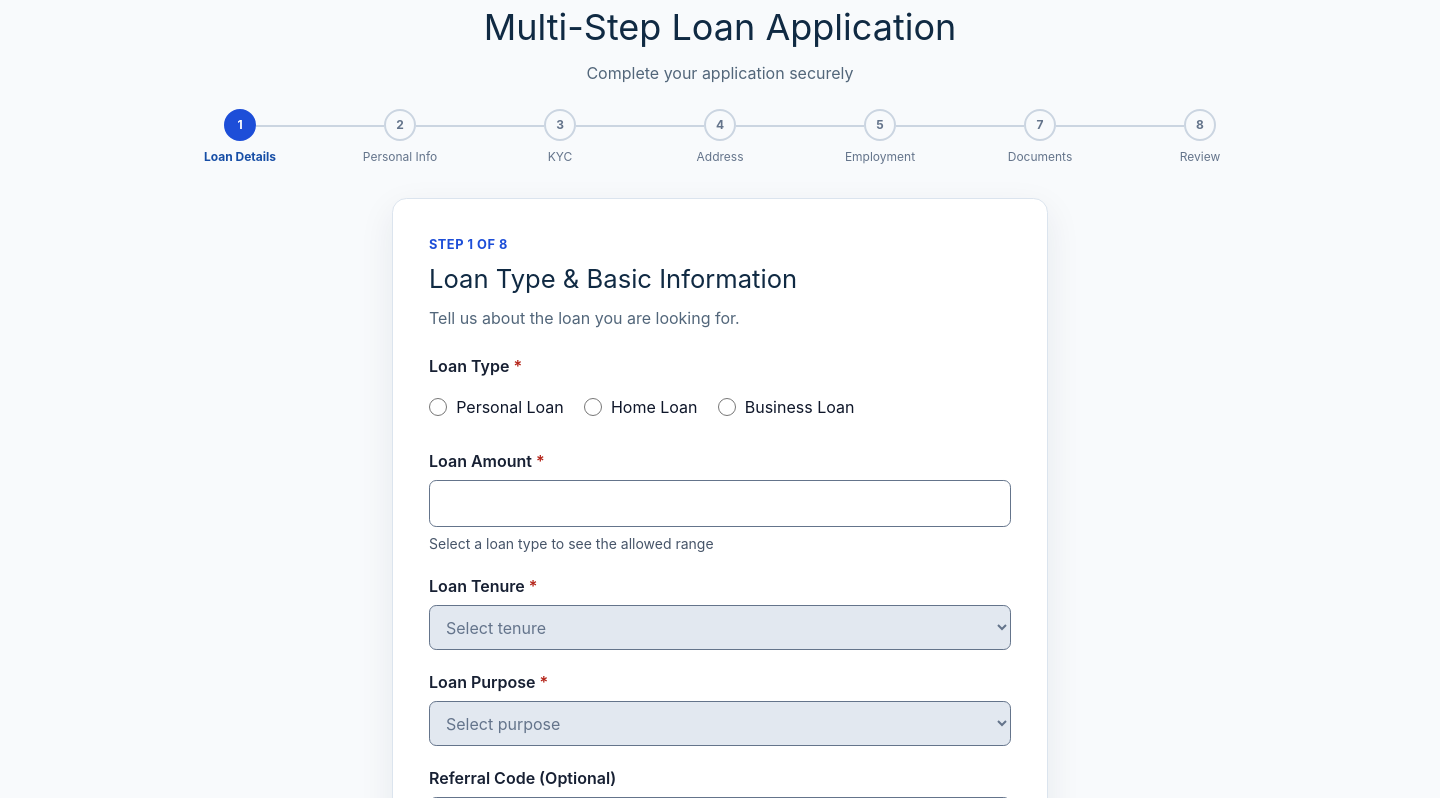
Scenario: Day 3 loan application › rejects an excessive Personal Loan amount
The width and height of the screenshot is (1440, 798).
Click the radio button labelled "Personal Loan": (438, 407) [429,398,447,416]
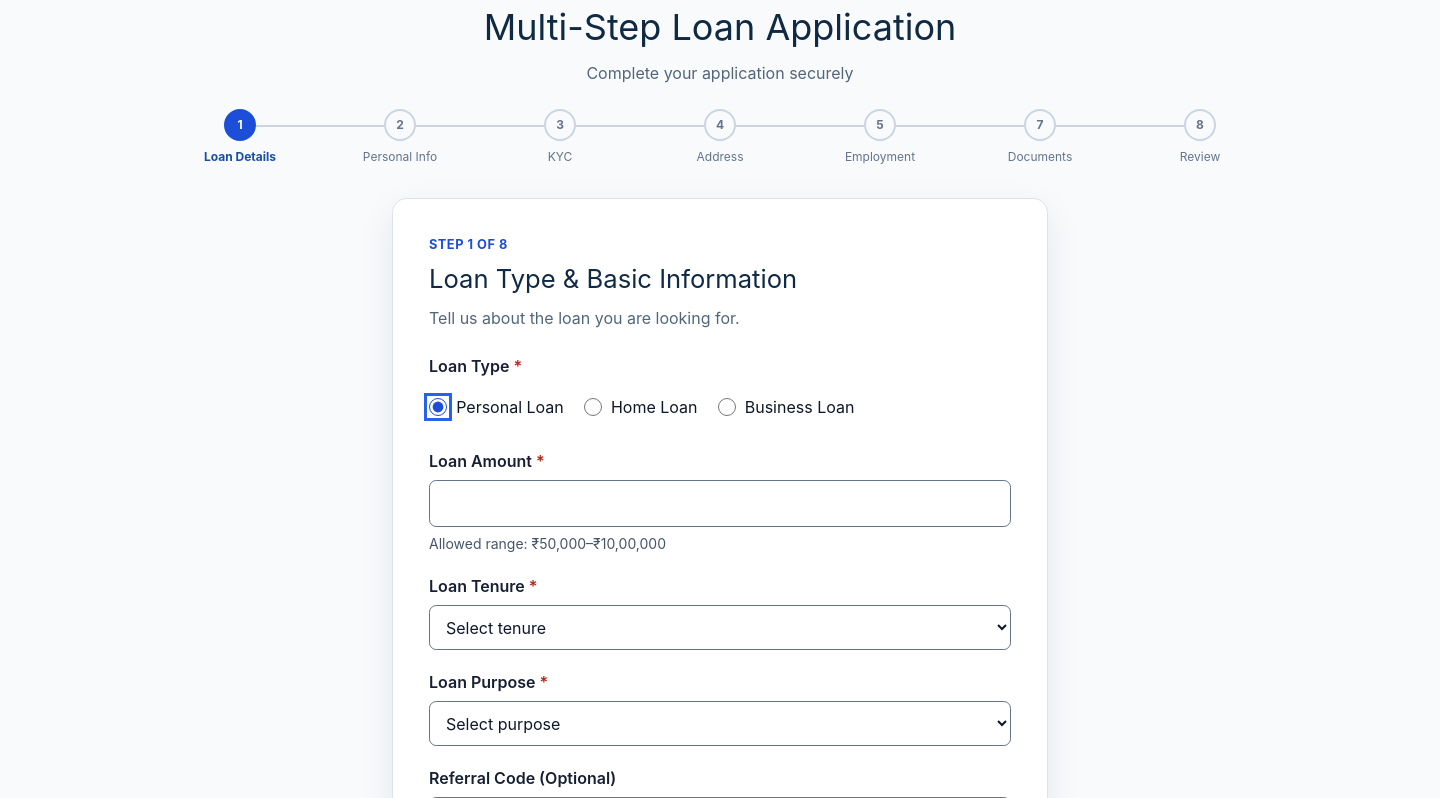
In the field labelled "Loan Amount *": (720, 504) [429,480,1011,527], type "1000001"
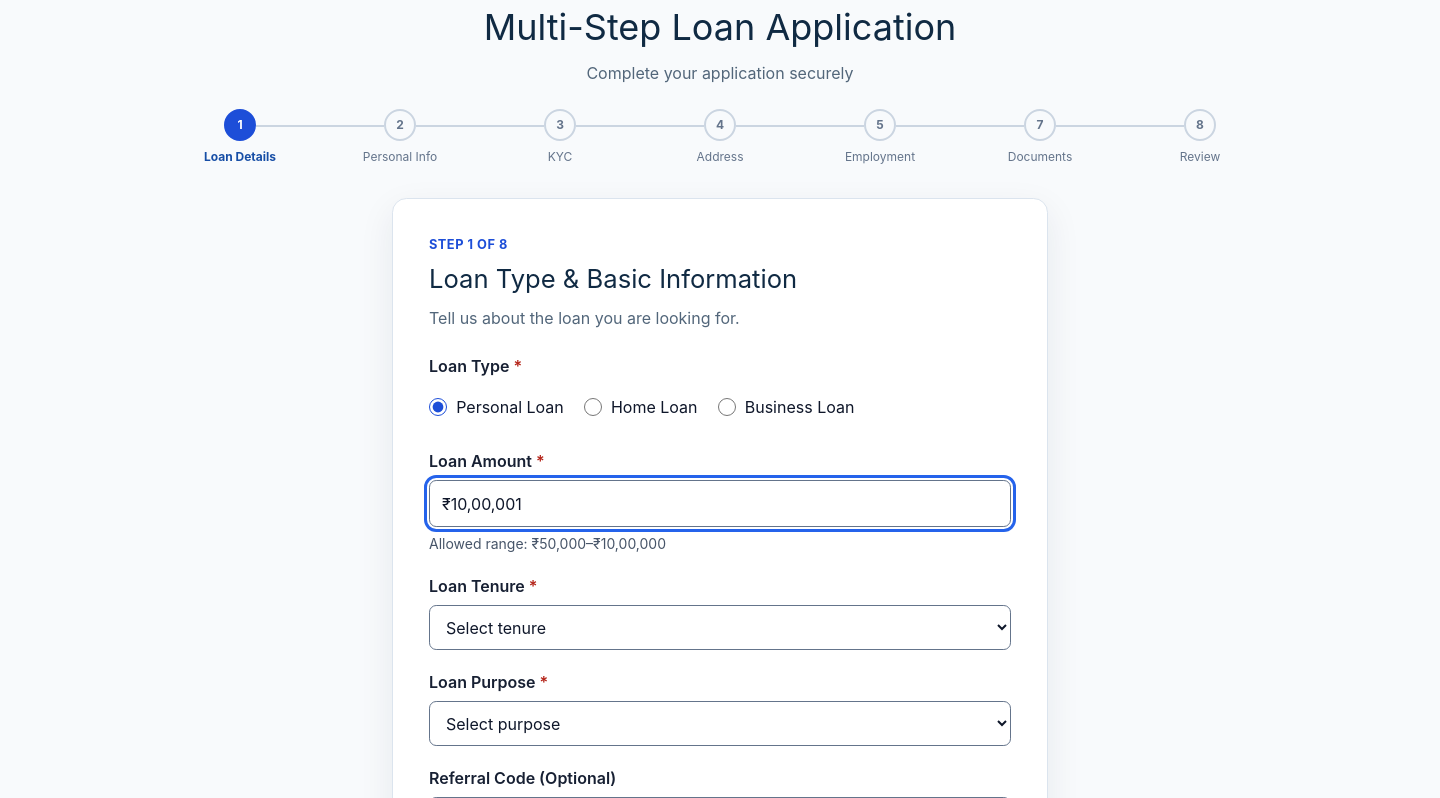
Press Tab
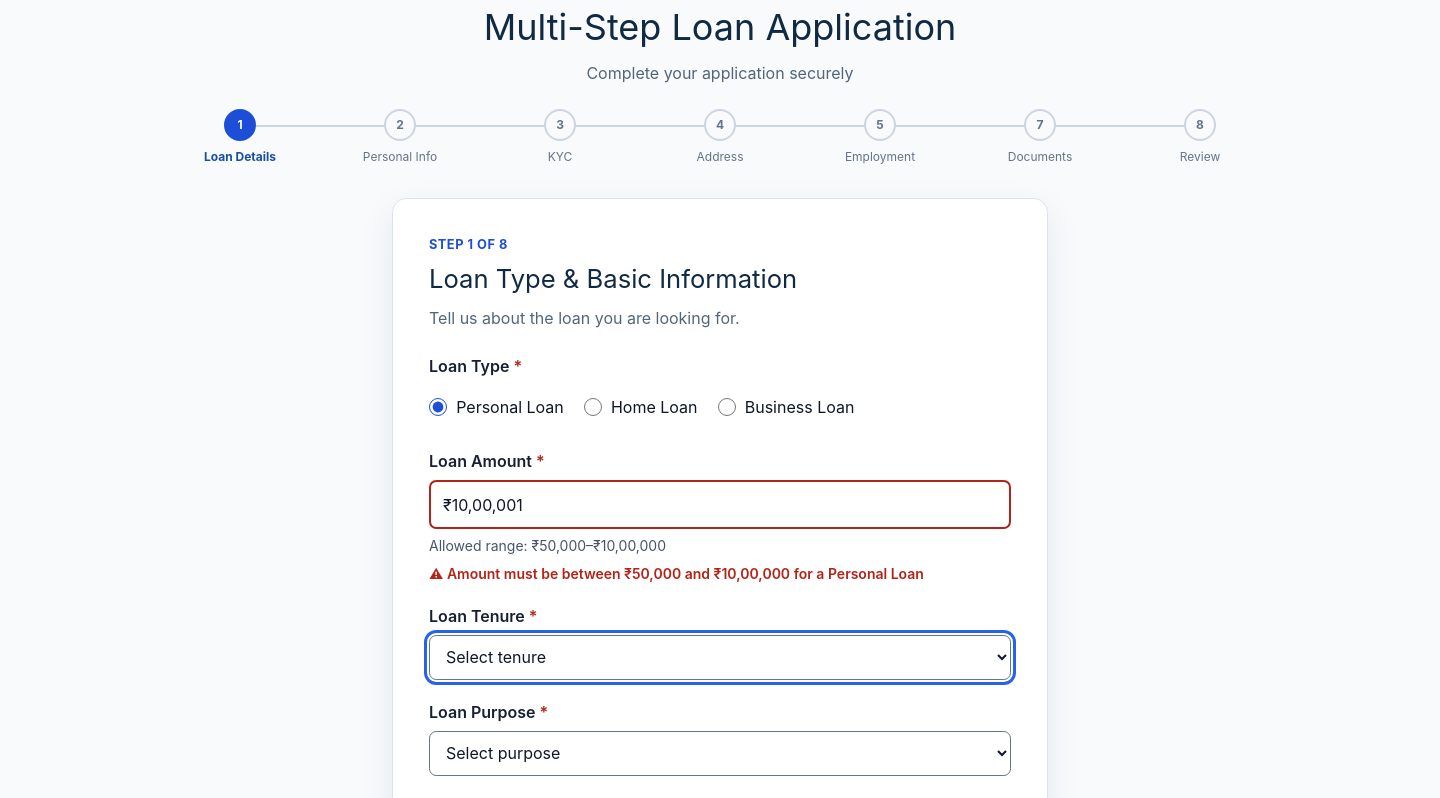
Now the text "⚠ Amount must be between ₹50,000 and ₹10,00,000 for a Personal Loan" is shown, box [429,563,1011,584]
